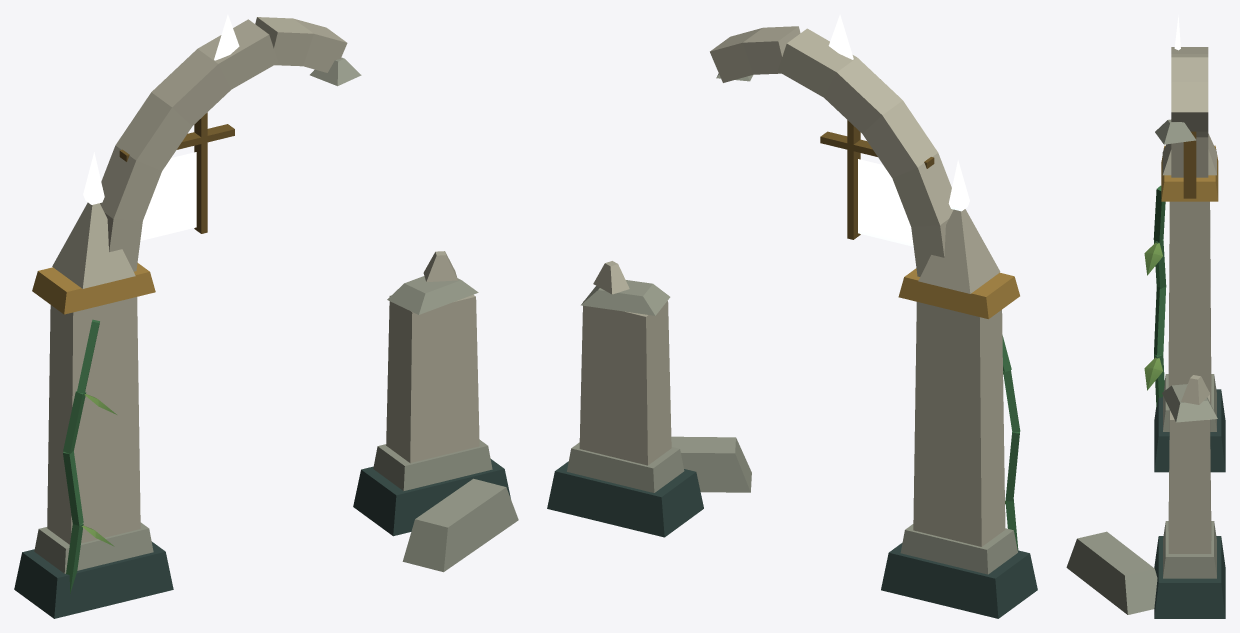
File: trellis-arch-lod1.glb
3 views of the same model, side by side, from view 1: azimuth 30°, elevation 25°; view 2: azimuth 150°, elevation 25°; view 3: azimuth 270°, elevation 25° (orthographic). The views are drawn at different scales.
Parts seen in each view (by area): view 1: gg_trellis_arch_lod1; view 2: gg_trellis_arch_lod1; view 3: gg_trellis_arch_lod1.
Part boxes in pixels (x1,y1,x2,y2): gg_trellis_arch_lod1: (14, 14, 518, 618); gg_trellis_arch_lod1: (547, 14, 1037, 618); gg_trellis_arch_lod1: (1066, 15, 1225, 618).
Size of the model in its own units: 3.3 by 3.78 by 1.12.
